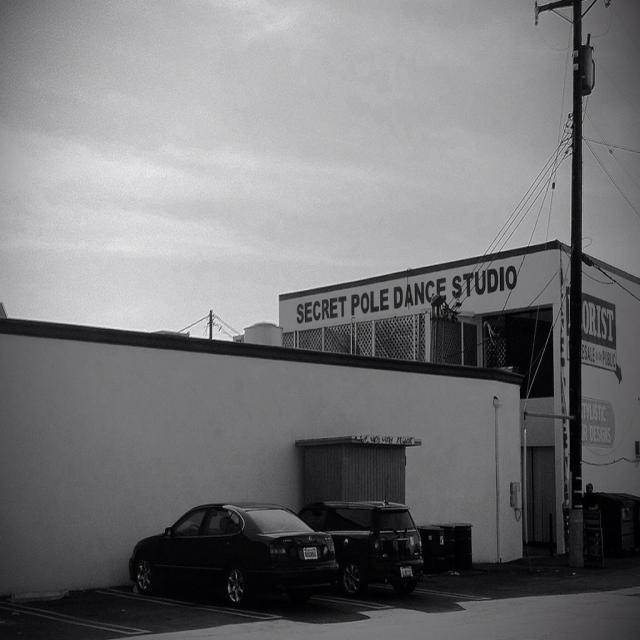car: (128, 500, 337, 605)
